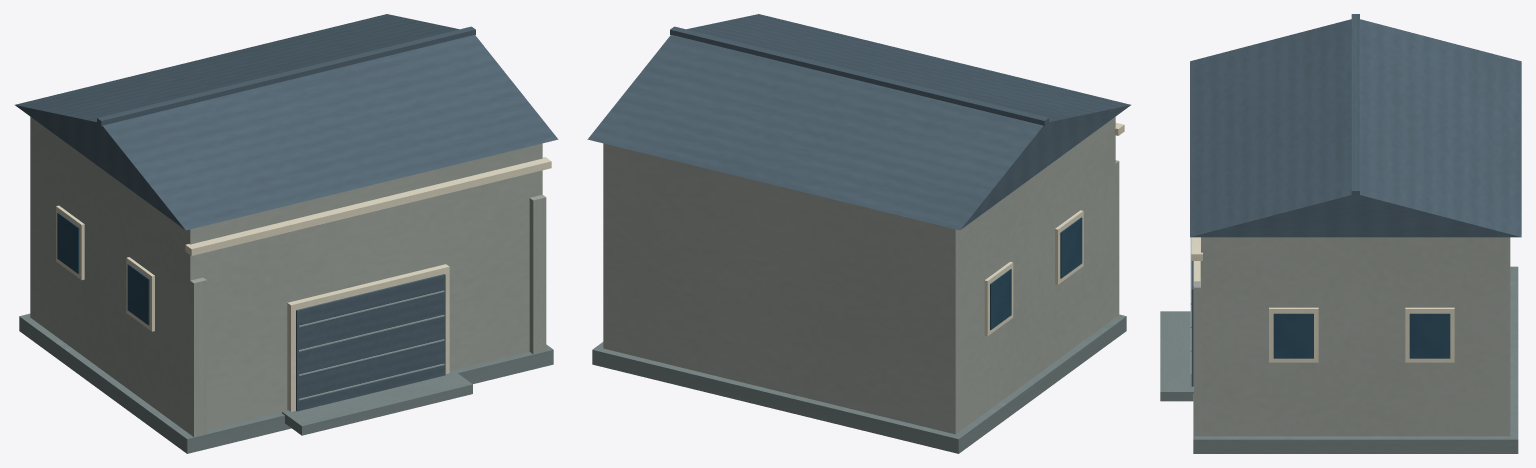
The model's file is warehouse-intact-lod.glb.
3 views of the same model, side by side, from view 1: azimuth 30°, elevation 25°; view 2: azimuth 150°, elevation 25°; view 3: azimuth 270°, elevation 25° (orthographic). The views are drawn at different scales.
Visible parts, largest first — view 1: warehouse-intact-lod; view 2: warehouse-intact-lod; view 3: warehouse-intact-lod.
Boxes of the visible parts, x1,y1,x2,y2 form: warehouse-intact-lod: (15, 14, 558, 453); warehouse-intact-lod: (587, 14, 1130, 453); warehouse-intact-lod: (1160, 14, 1521, 453).
Bounding box in the file's own units: 7.44 × 5.2 × 6.43.
2 materials, 2 textured.
